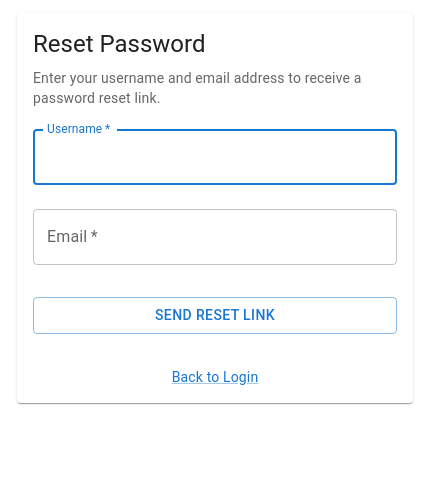
Test: ForgotPassword › shows the success message and clears the fields when the request succeeds
This screenshot has width=431, height=486.
Type "alice" into the field labelled "Username *" at (215, 157), box [33,129,397,185]
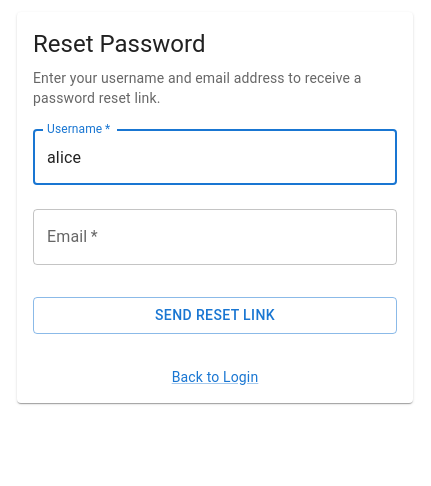
Type "a@example.com" into the field labelled "Email *" at (215, 237), box [33,209,397,265]
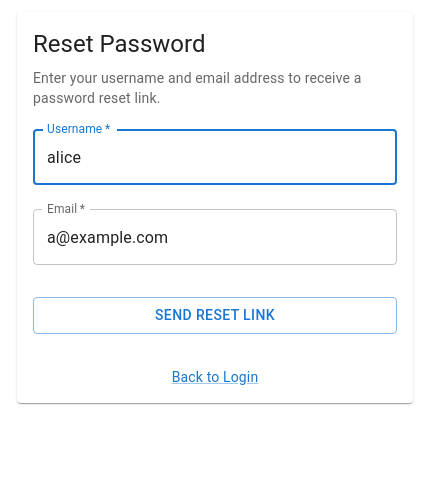
Click the button "Send Reset Link" at (215, 316), box [33,297,397,334]
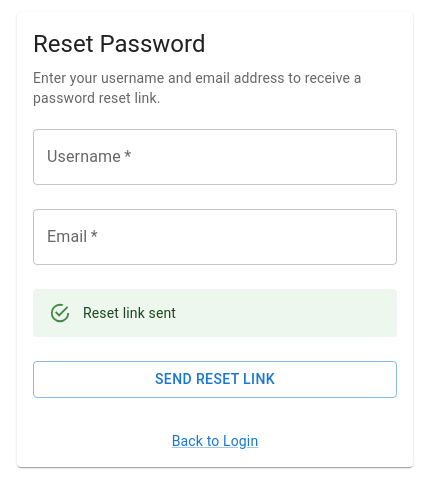
Expected: the text "Reset link sent" is shown, [83,305,176,321]
Expected: the field labelled "Username *" is empty, [33,129,397,185]
